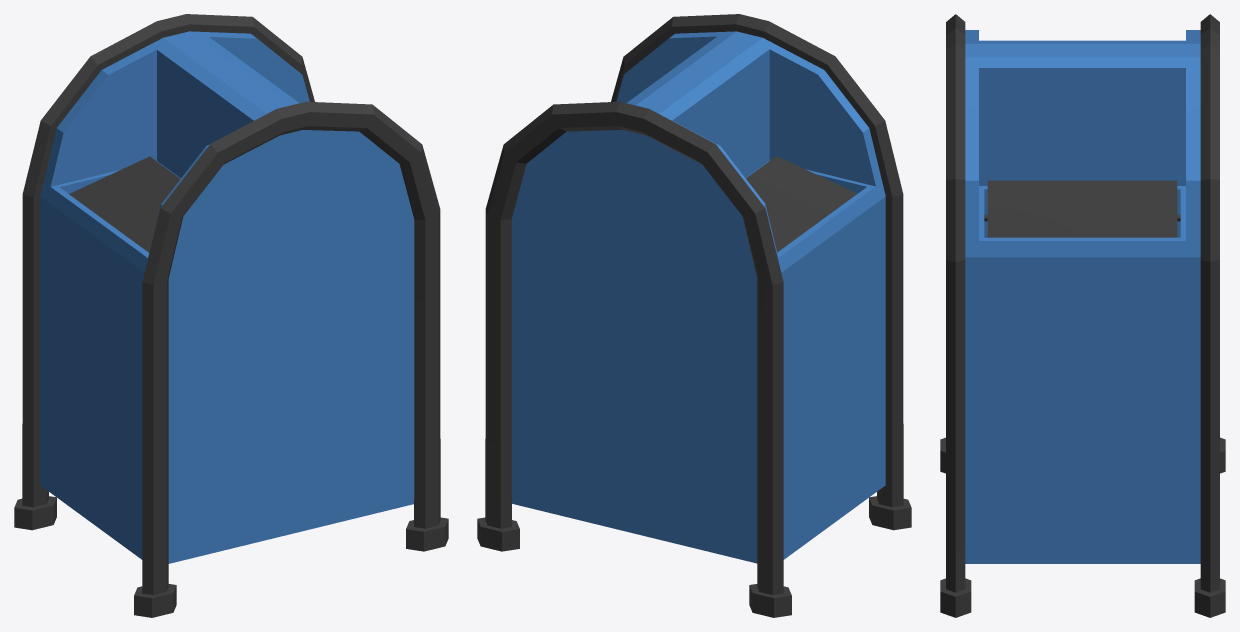
File: thungrac1.fbx
3 views of the same model, side by side, from view 1: azimuth 30°, elevation 25°; view 2: azimuth 150°, elevation 25°; view 3: azimuth 270°, elevation 25° (orthographic). The views are drawn at different scales.
Visible parts, largest first — view 1: thungrac1; view 2: thungrac1; view 3: thungrac1.
Boxes of the visible parts, x1=… form: thungrac1: x1=14, y1=14, x2=448, y2=617; thungrac1: x1=477, y1=14, x2=911, y2=617; thungrac1: x1=940, y1=14, x2=1225, y2=617.
Bounding box in the file's own units: 46.52 × 66.65 × 34.45.
